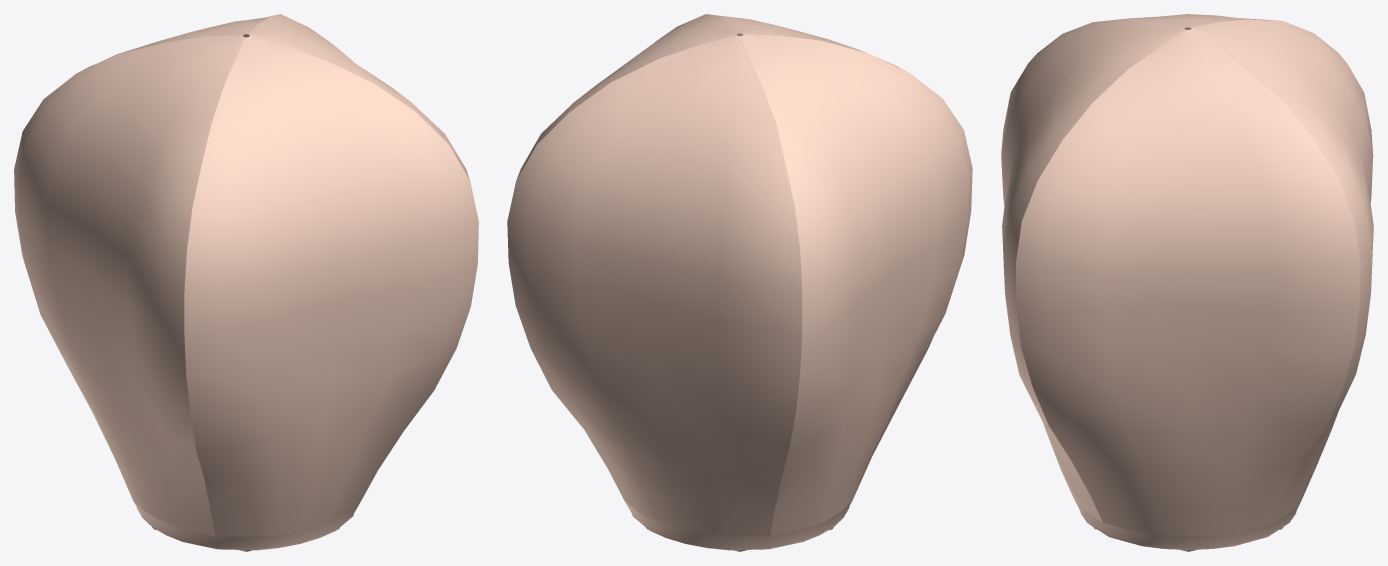
The model's file is sky_lantern.glb.
3 views of the same model, side by side, from view 1: azimuth 30°, elevation 25°; view 2: azimuth 150°, elevation 25°; view 3: azimuth 270°, elevation 25° (orthographic).
Parts seen in each view (by area): view 1: Low; view 2: Low; view 3: Low.
Part boxes in pixels (x1=…): Low: x1=14, y1=14, x2=478, y2=551; Low: x1=507, y1=14, x2=972, y2=551; Low: x1=1001, y1=14, x2=1373, y2=551.
Bounding box in the file's own units: 0.5782 × 0.8175 × 0.578.
